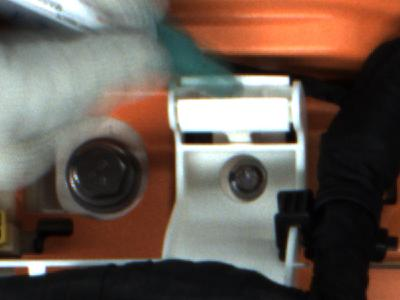screw_m: (217, 155, 268, 204)
